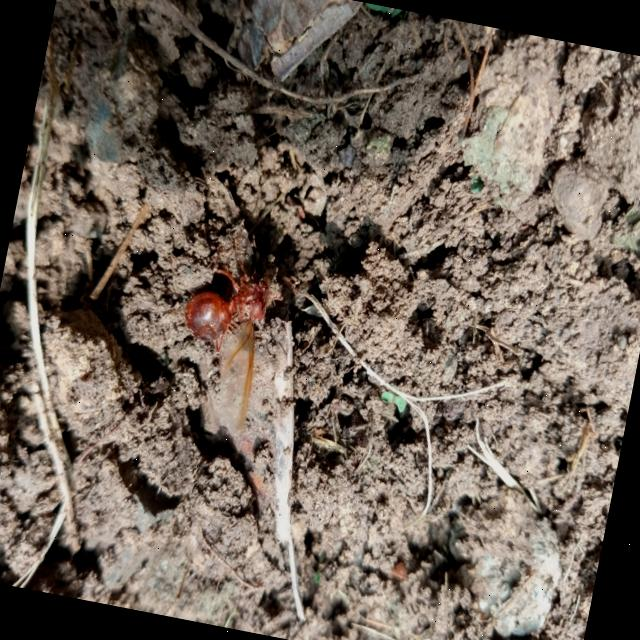Dead-Male-Alate: (162, 211, 296, 441)
